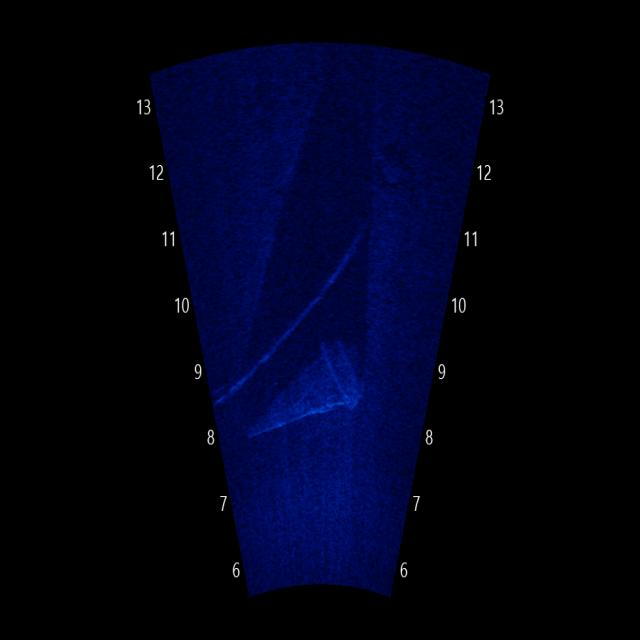circle: (371, 141, 421, 208)
triangle: (244, 320, 372, 451)
